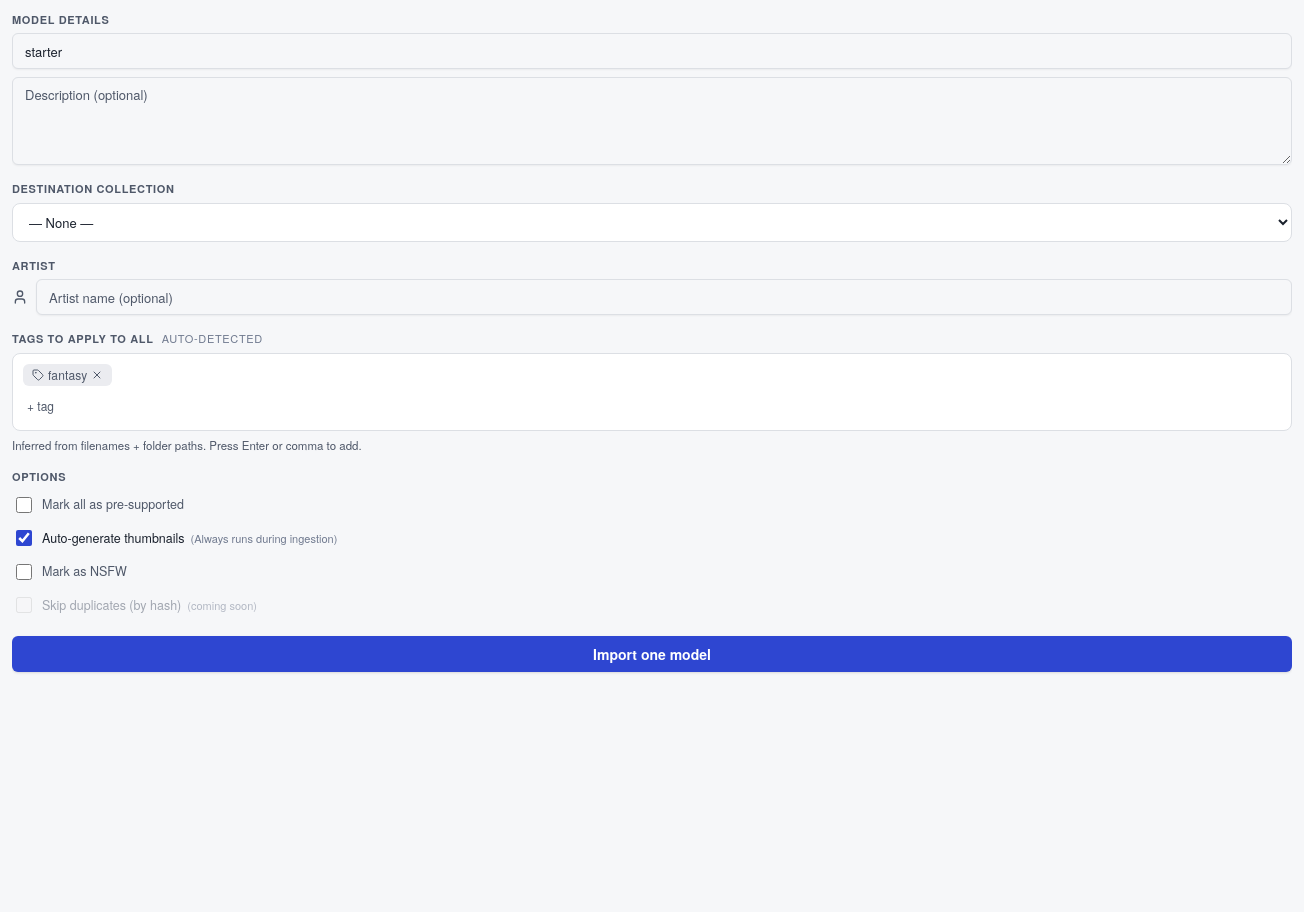
Test case: BatchMetadataForm › should add an existing tag suggestion when it is selected
Type "TERR" into the dropdown named "Tag name".
click(652, 406); type("TERR")  # box [23,392,1281,420]
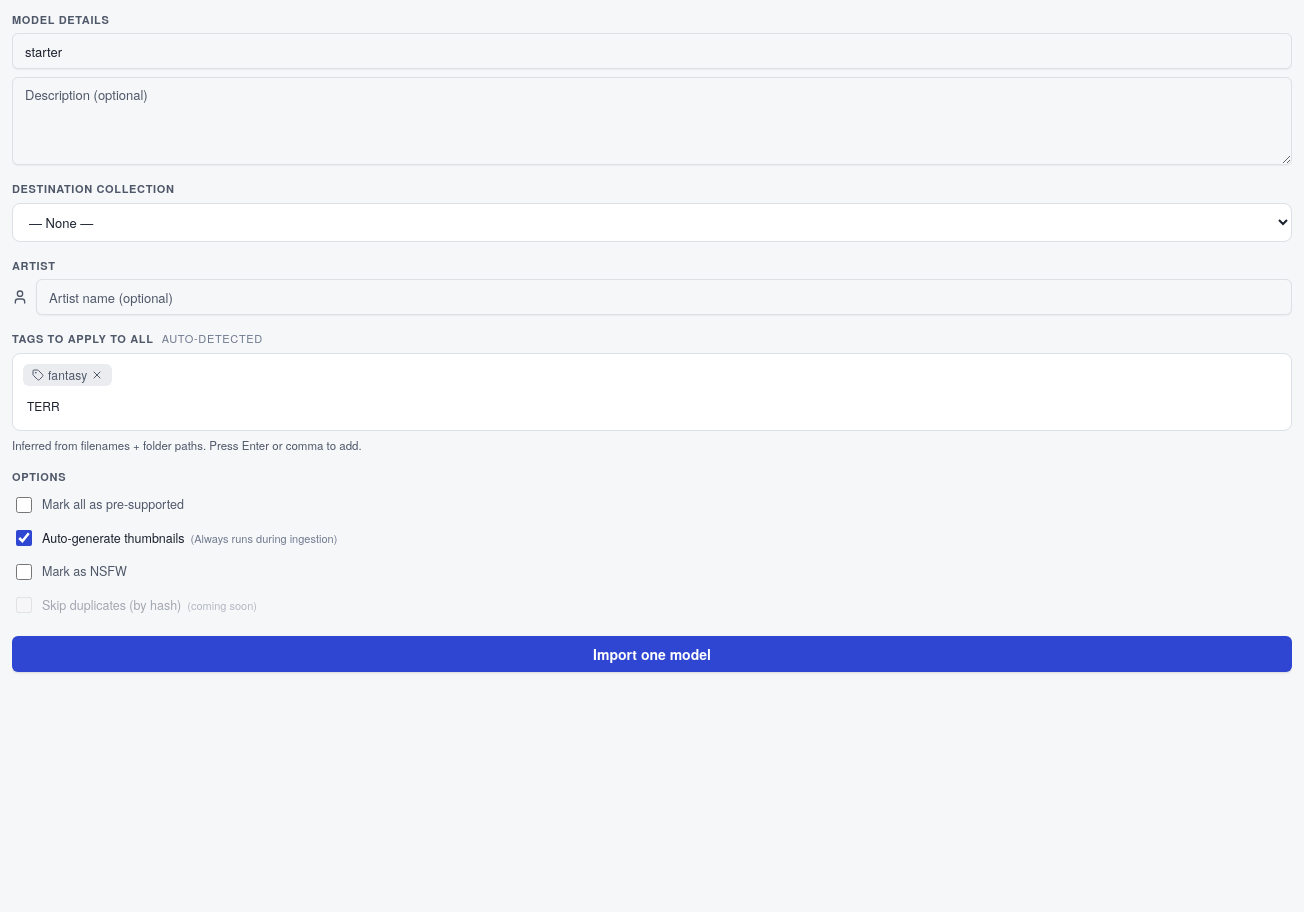
Focus the dropdown named "Tag name" at (652, 406), box [23,392,1281,420]
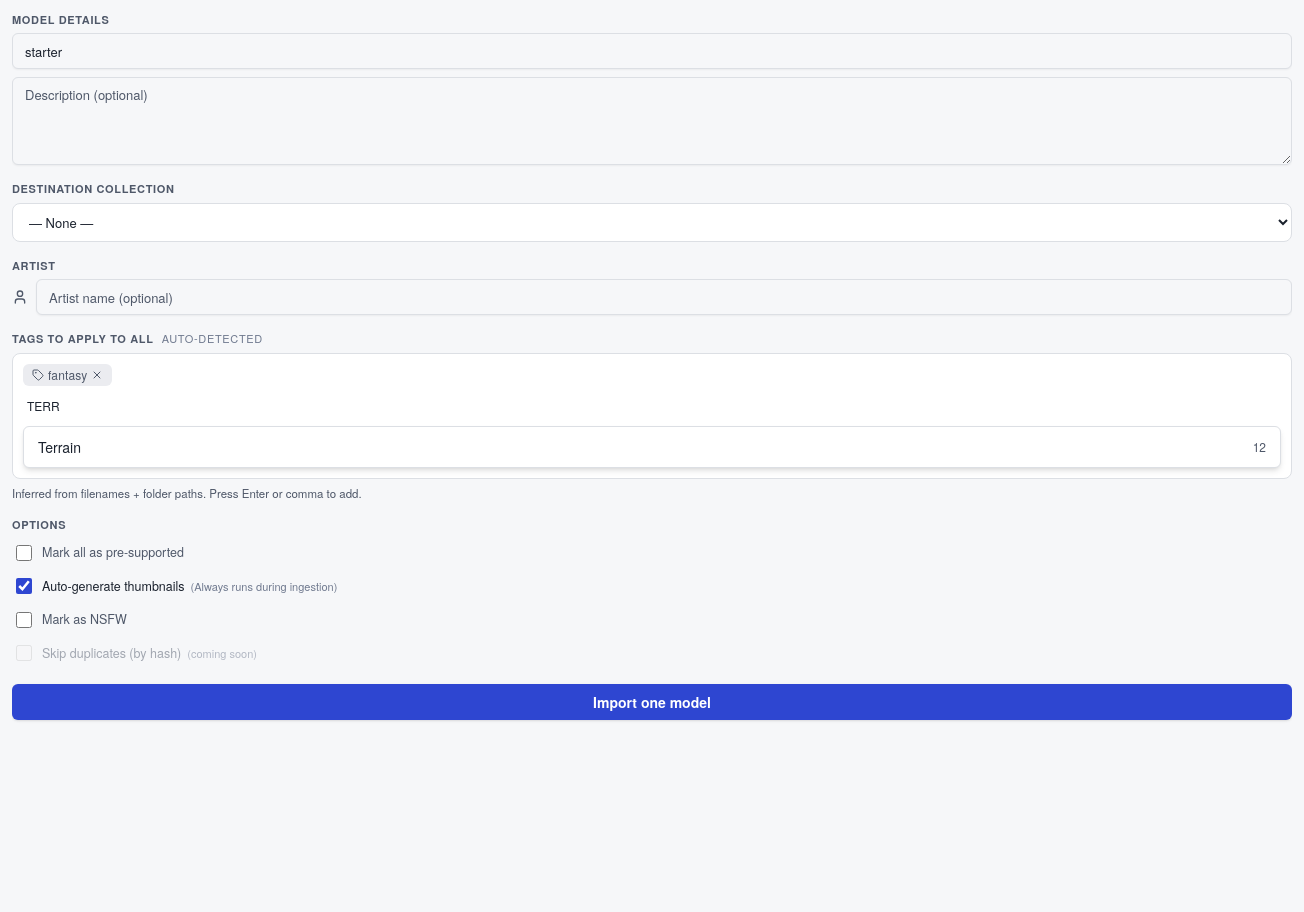
Click the option "Terrain 12".
click(59, 447)  # box [28,431,1276,463]
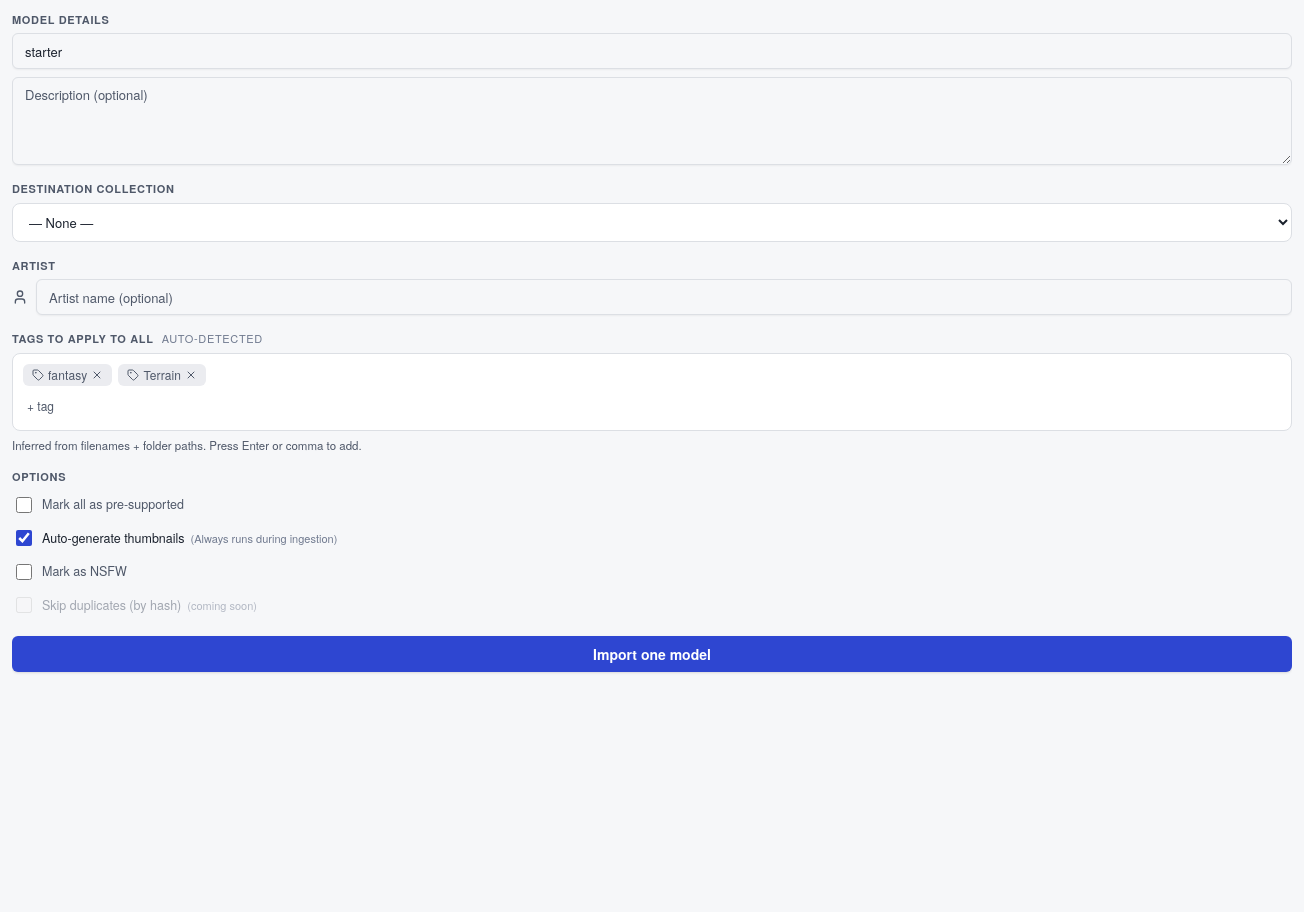
Result: the button named "Remove tag Terrain" is shown at [185,369,197,381]
